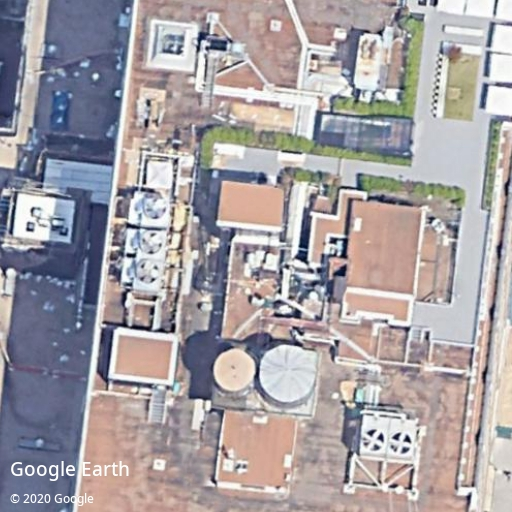Vent: (136, 259, 161, 284), (139, 230, 163, 254), (143, 196, 167, 219), (389, 432, 412, 455), (364, 429, 385, 451)
